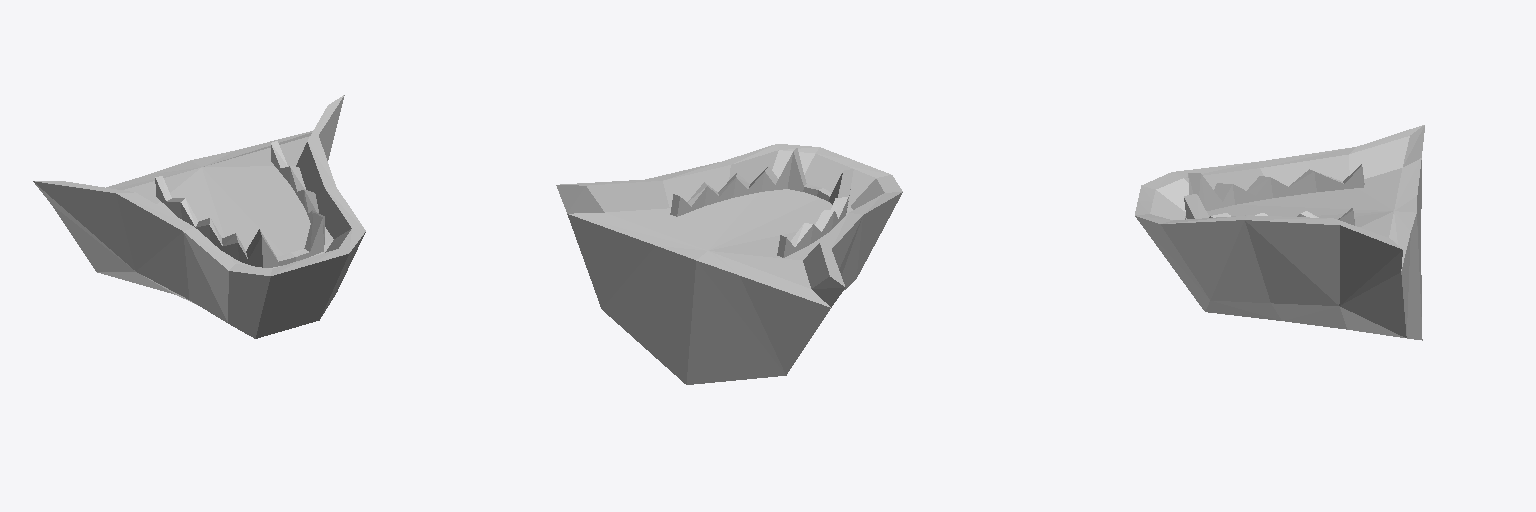
File: 03_mouth.obj
The picture shows the model from 3 angles: view 1: azimuth 30°, elevation 25°; view 2: azimuth 150°, elevation 25°; view 3: azimuth 270°, elevation 25°; orthographic projection.
Visible parts, largest first — view 1: pTorus2 WolfMesh; view 2: pTorus2 WolfMesh; view 3: pTorus2 WolfMesh.
Boxes of the visible parts, x1,y1,x2,y2 form: pTorus2 WolfMesh: [33, 95, 365, 338]; pTorus2 WolfMesh: [556, 144, 902, 384]; pTorus2 WolfMesh: [1135, 125, 1424, 340].
Size of the model in its own units: 0.4948 by 0.2501 by 0.4141.